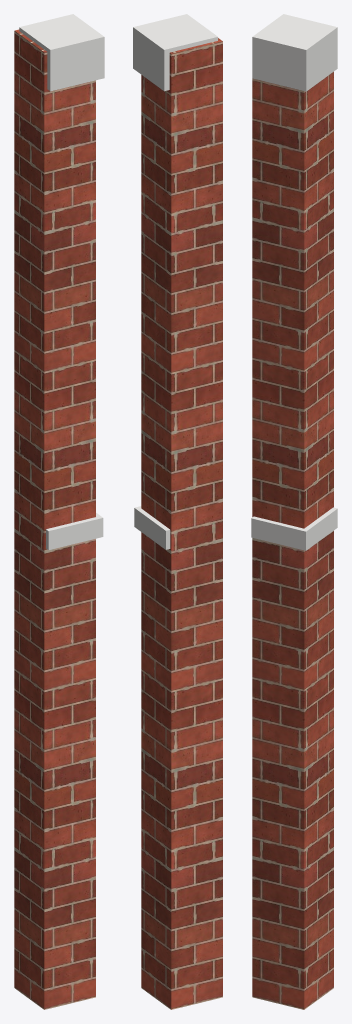
File: corner_hall.glb
3 views of the same model, side by side, from view 1: azimuth 30°, elevation 25°; view 2: azimuth 210°, elevation 25°; view 3: azimuth 330°, elevation 25° (orthographic).
Parts seen in each view (by area): view 1: corner_hall_brick, corner_hall_trim; view 2: corner_hall_brick, corner_hall_trim; view 3: corner_hall_brick, corner_hall_trim.
Part boxes in pixels (bbox=[...]): corner_hall_brick: bbox=[14, 29, 95, 1009]; corner_hall_trim: bbox=[19, 14, 104, 550]; corner_hall_brick: bbox=[141, 38, 222, 1009]; corner_hall_trim: bbox=[133, 14, 217, 549]; corner_hall_brick: bbox=[252, 71, 333, 1009]; corner_hall_trim: bbox=[251, 14, 337, 550].
Bounding box in the file's own units: 0.375 × 6.03 × 0.375.
2 materials, 1 textured.
